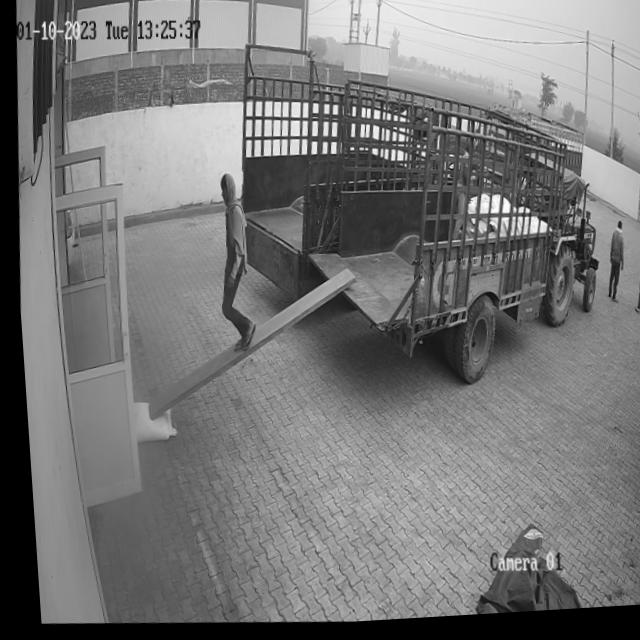sack: (126, 401, 173, 446)
